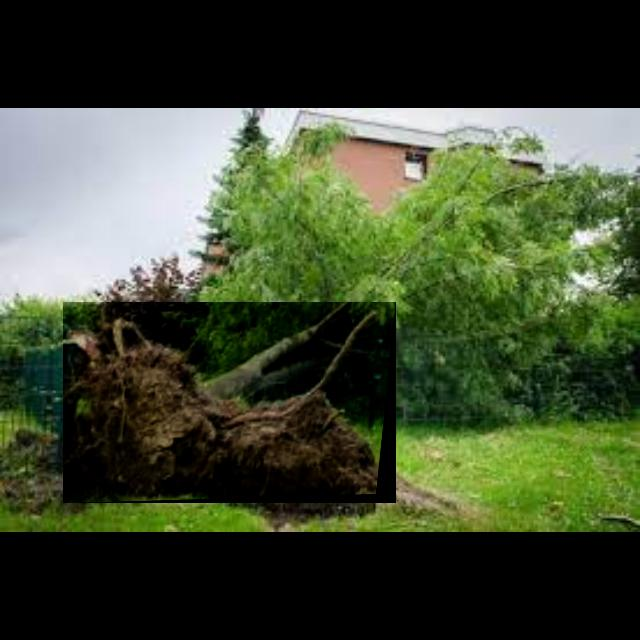Fallen Tree: (63, 302, 397, 504)
